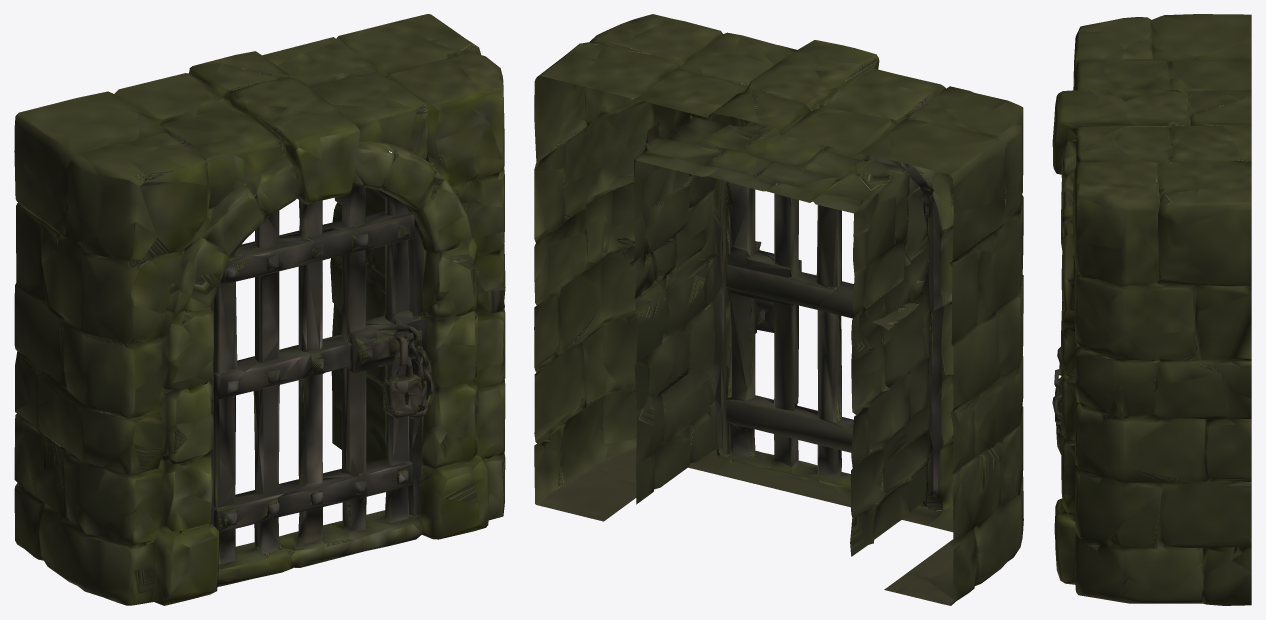
Rendered from prison-cell-intact.glb.
3 views of the same model, side by side, from view 1: azimuth 30°, elevation 25°; view 2: azimuth 150°, elevation 25°; view 3: azimuth 270°, elevation 25° (orthographic). The views are drawn at different scales.
Parts seen in each view (by area): view 1: output_unwrapped; view 2: output_unwrapped; view 3: output_unwrapped.
Boxes of the visible parts, x1,y1,x2,y2 form: output_unwrapped: (14, 14, 505, 605); output_unwrapped: (534, 14, 1023, 605); output_unwrapped: (1052, 14, 1251, 605).
Size of the model in its own units: 1.44 by 1.43 by 0.6335.
1 material, 1 textured.
